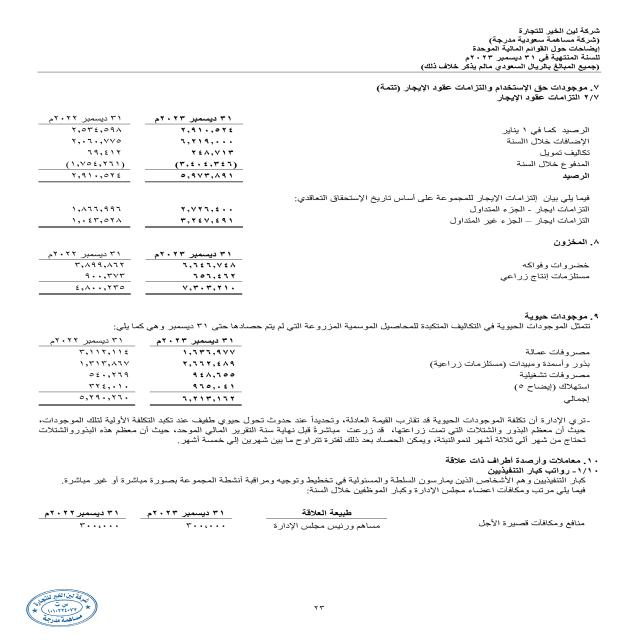notes: (464, 44, 606, 51)
table: (30, 109, 256, 232), (22, 334, 247, 412), (28, 500, 379, 545), (31, 239, 251, 308)
